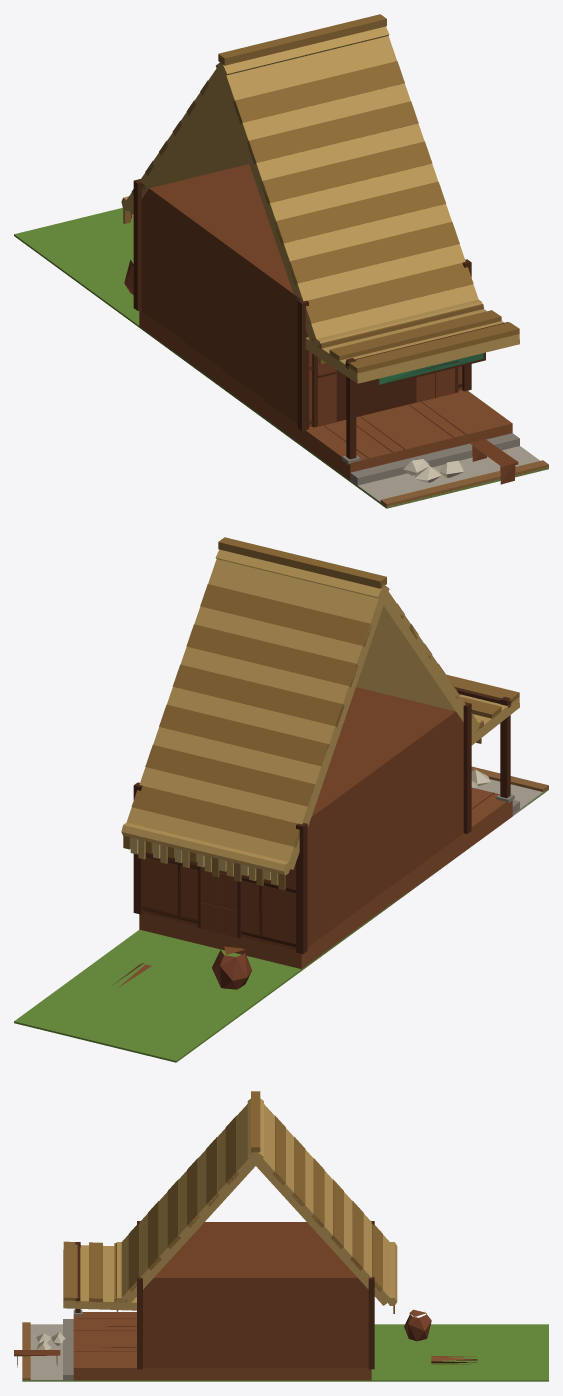
Rendered from bay1_mid2.glb.
The picture shows the model from 3 angles, top to bottom: view 1: azimuth 30°, elevation 25°; view 2: azimuth 150°, elevation 25°; view 3: azimuth 270°, elevation 25°; orthographic projection. The views are drawn at different scales.
Visible parts, largest first — view 1: body; view 2: body; view 3: body.
Boxes of the visible parts, bbox=[...] form: body: bbox=[14, 14, 548, 508]; body: bbox=[14, 537, 548, 1062]; body: bbox=[14, 1091, 548, 1381].
Size of the model in its own units: 4.18 by 7.82 by 16.15.
